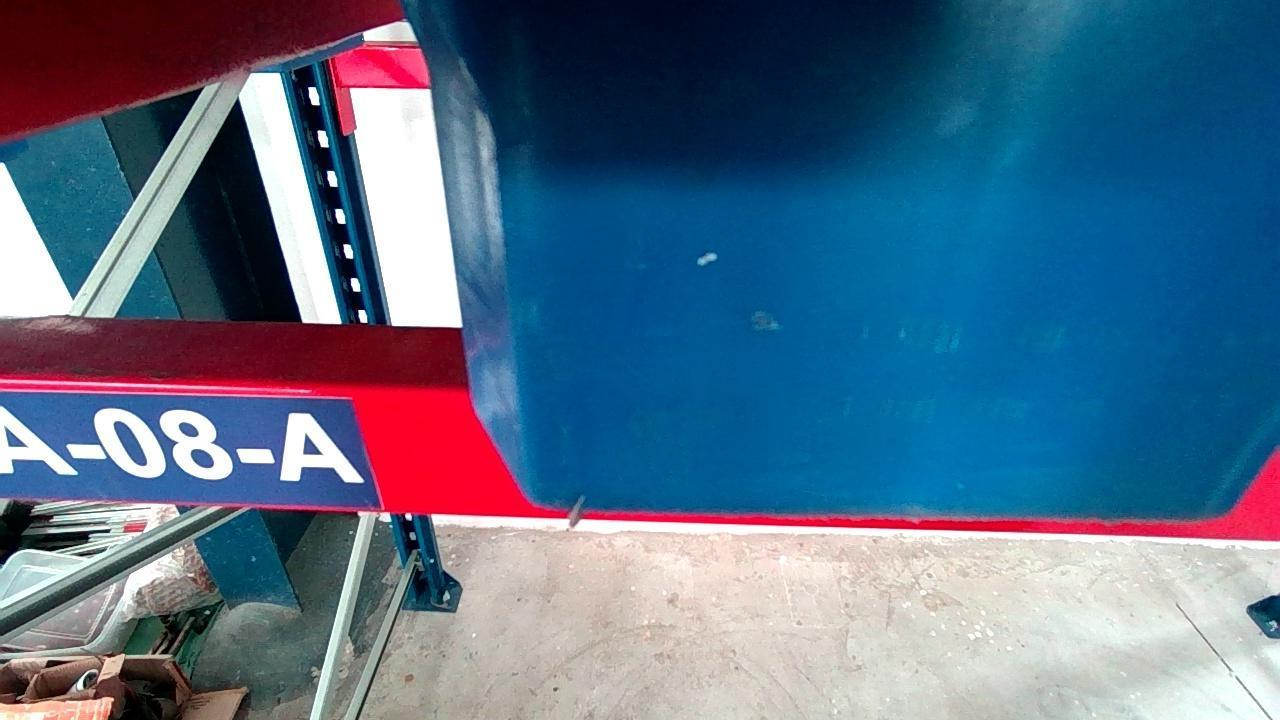h_rack: (0, 374, 536, 517)
